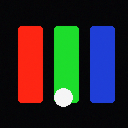2 circle: (54, 88, 72, 106)
